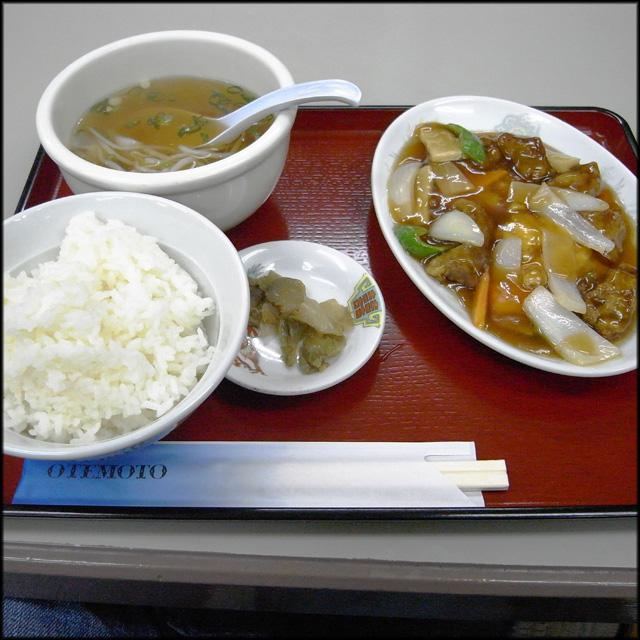汤锅炖物: (34, 22, 294, 177)
猪肉菜式: (388, 120, 640, 364)
米饭主食: (0, 180, 244, 461)
